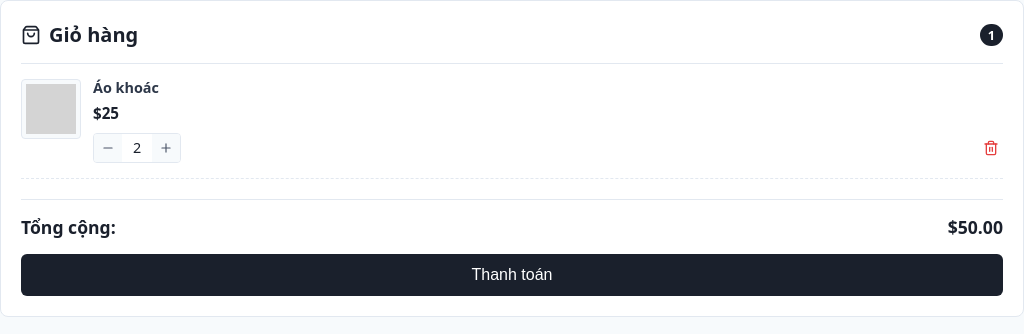
Test case: Cart integration tests › tăng số lượng và cập nhật tổng tiền khi nhấn nút cộng
The width and height of the screenshot is (1024, 334).
Click the 2nd button at (166, 148), box [152,134,180,162]
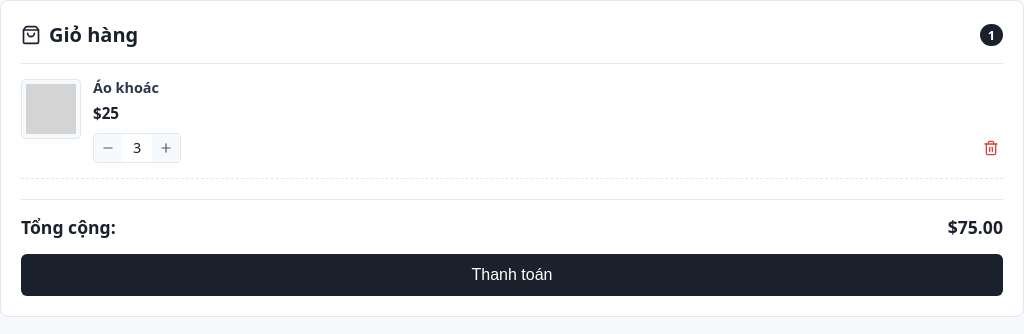
Check: the text "3" is shown, box [133,138,141,157]
Check: the text "$75.00" is shown, box [948,215,1003,239]
